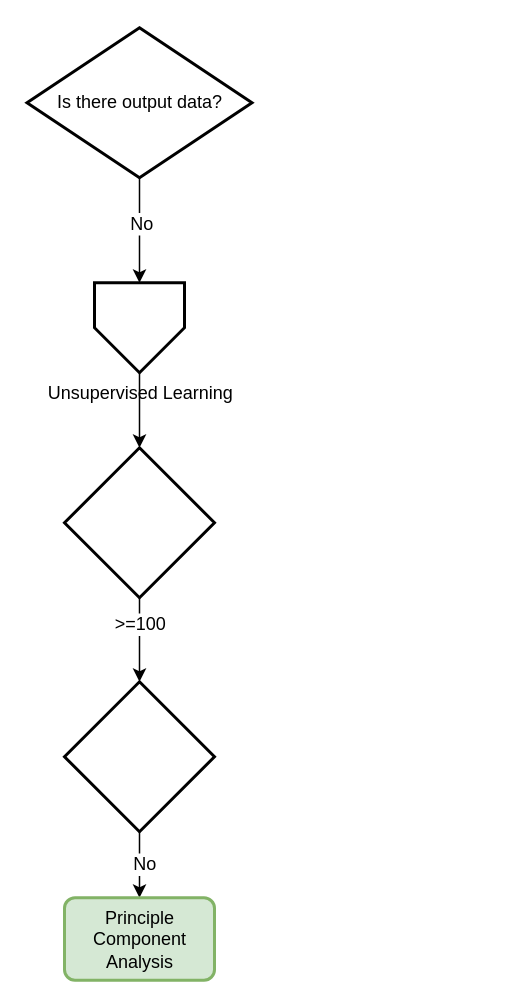
The diagram is 527 pixels wide and 1007 high, and some of its shapes have lost their labels. Each missing label, with the box of its shape:
Number of Features?: (62, 446, 215, 598)
Structure?: (62, 680, 215, 832)
